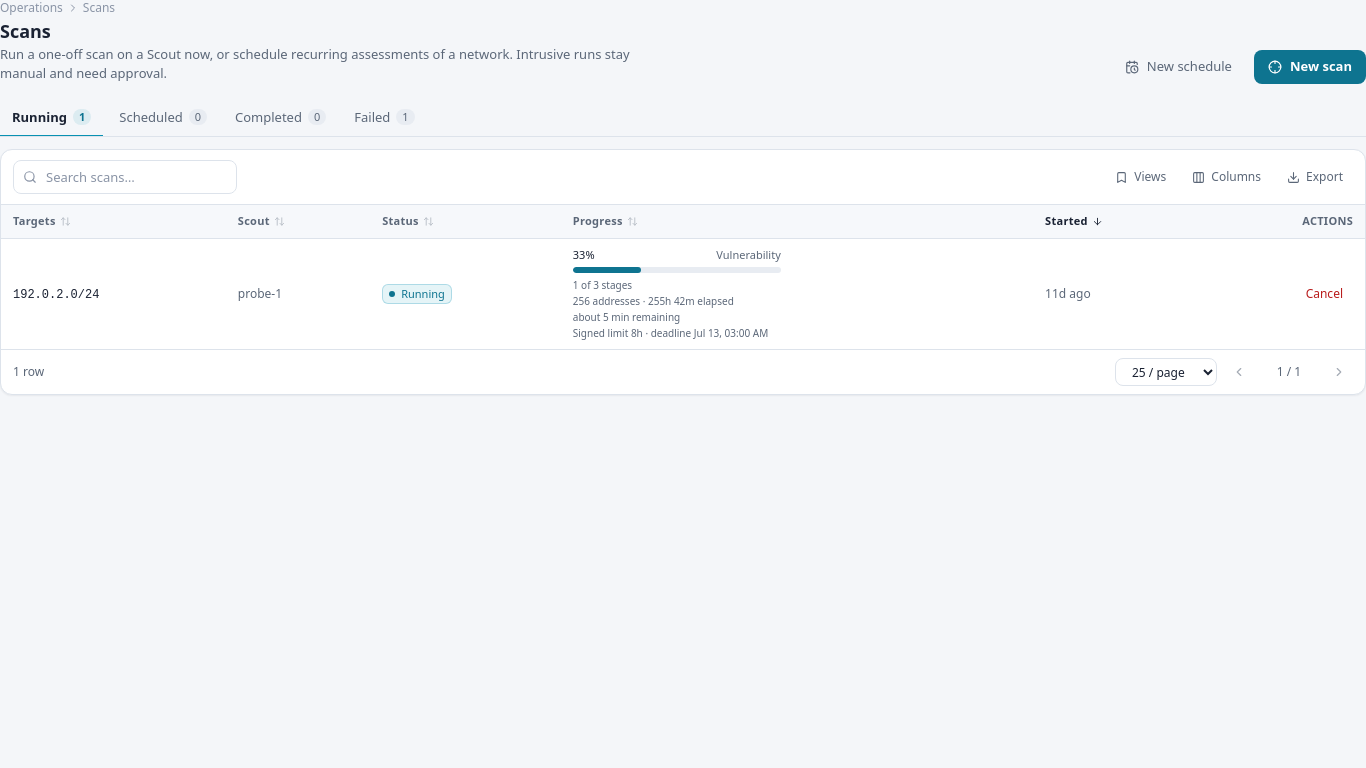
Test case: shows live percent, stage statistics, ETA, and operator failure diagnostics
Expected: the text "33%" is shown, [573,246,595,263]
Expected: the text "1 of 3 stages" is shown, [573,278,632,292]
Click the tab "Failed 1".
click(384, 118)  # box [342,100,427,137]
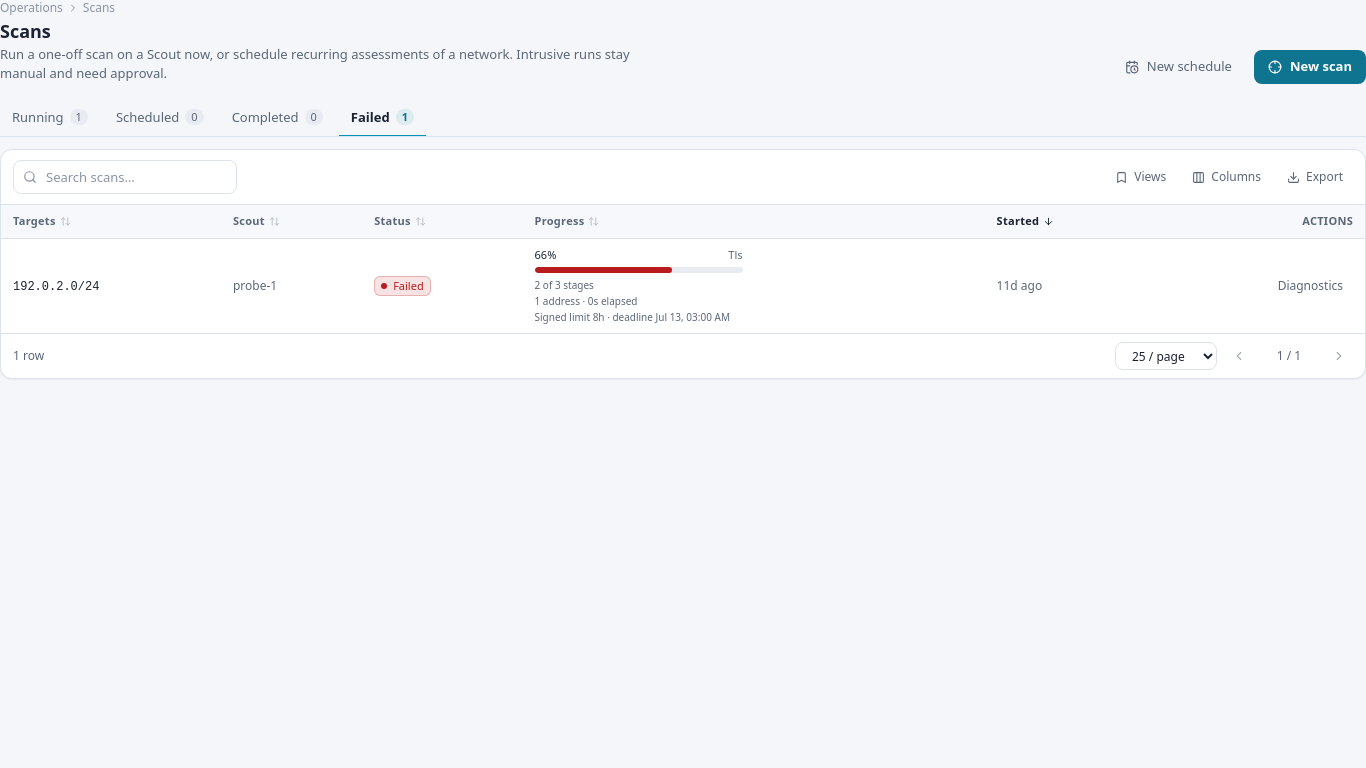
Click the button "Diagnostics".
click(1310, 286)  # box [1268,272,1353,300]
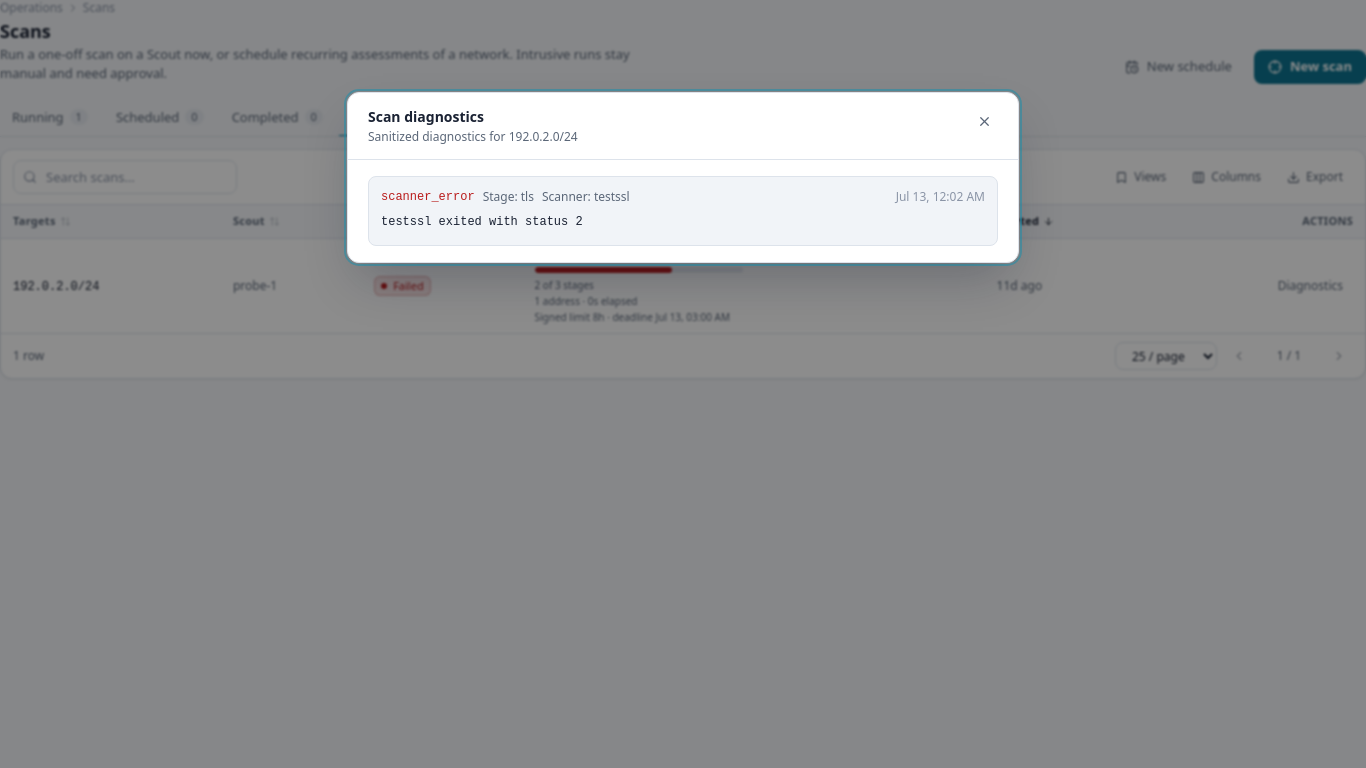
Expected: the text "testssl exited with status 2" is shown, [381,215,583,229]
Expected: the text "Stage: tls" is shown, [483,189,534,205]
Expected: the text "Scanner: testssl" is shown, [542,189,630,205]
